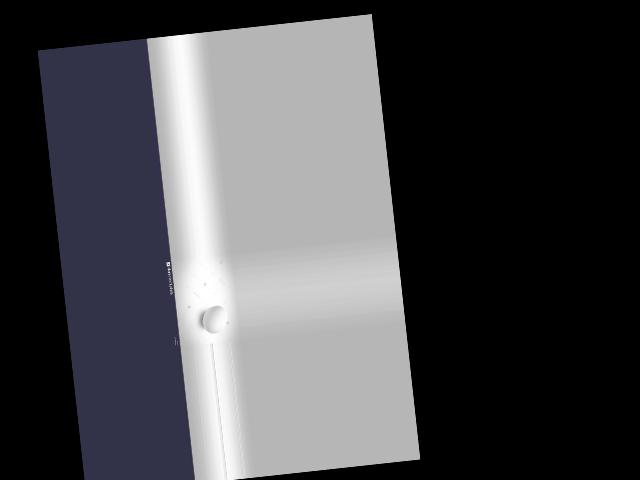egg: (200, 305, 228, 335)
